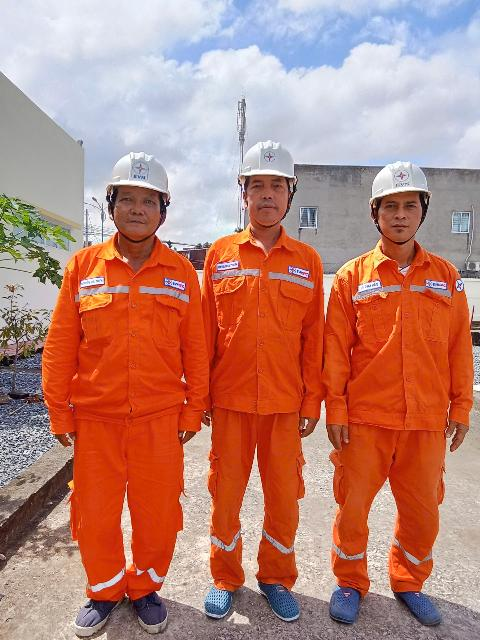helmet: (92, 147, 185, 202), (241, 130, 312, 195), (367, 158, 443, 205)
shoes: (388, 570, 453, 631), (59, 583, 127, 636), (252, 571, 311, 628), (197, 572, 252, 627), (327, 572, 379, 629), (123, 582, 176, 633)
